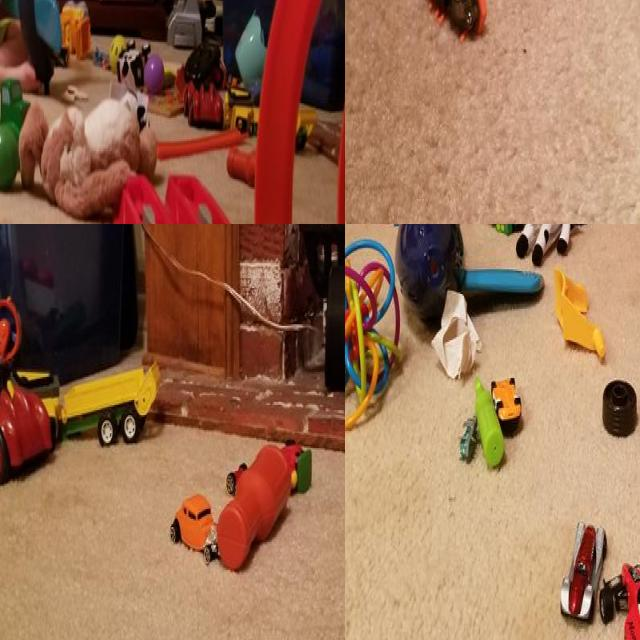toy: (24, 97, 159, 217), (220, 430, 292, 588), (345, 249, 404, 429), (49, 371, 159, 444), (398, 224, 466, 329), (0, 362, 53, 480), (554, 266, 609, 366), (562, 512, 604, 632), (167, 492, 223, 568), (459, 254, 543, 300), (421, 0, 491, 50), (600, 558, 640, 640), (178, 64, 226, 130), (475, 374, 506, 468), (276, 429, 312, 499), (520, 224, 590, 256), (602, 378, 638, 438), (119, 36, 152, 96), (61, 0, 94, 59), (493, 369, 523, 428), (0, 299, 20, 379), (219, 445, 250, 492), (460, 402, 479, 473), (0, 125, 20, 189), (139, 52, 163, 102), (105, 33, 126, 73)
